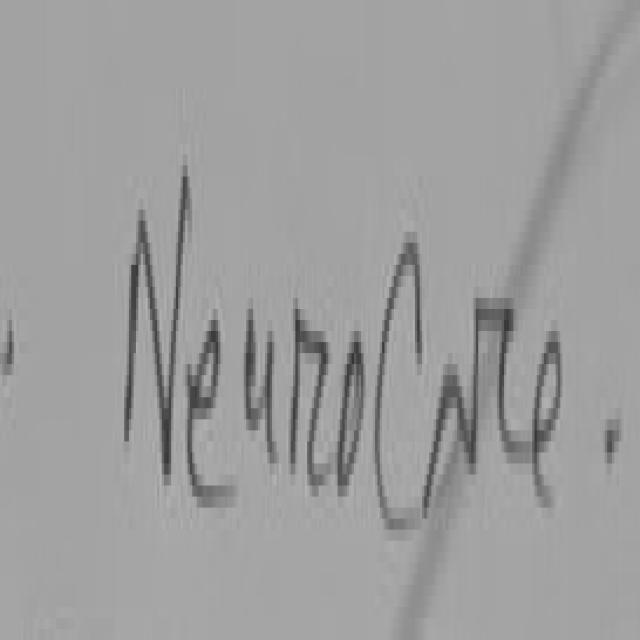C: (372, 198, 426, 560)
N: (116, 124, 190, 558)
a: (422, 328, 472, 539)
e: (186, 304, 237, 525), (532, 312, 570, 531)
o: (337, 320, 369, 509)
r: (466, 251, 526, 498), (282, 296, 336, 514)
u: (239, 280, 280, 503)
